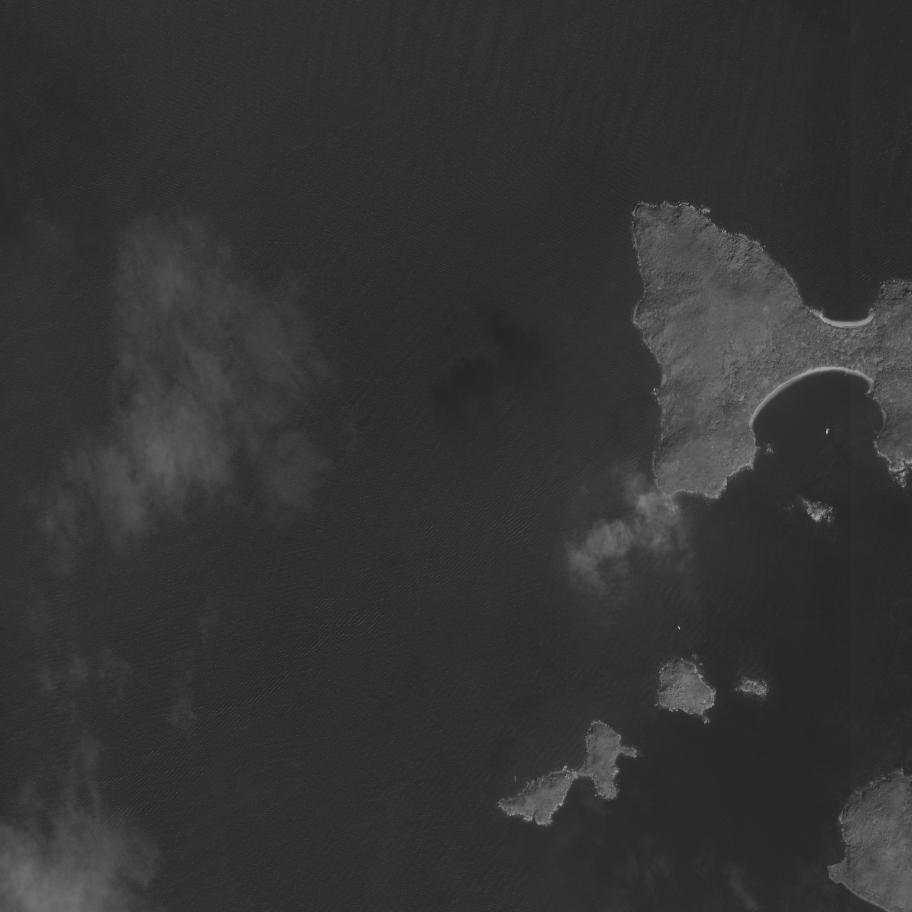ship: (825, 428, 829, 435), (677, 625, 682, 630)
